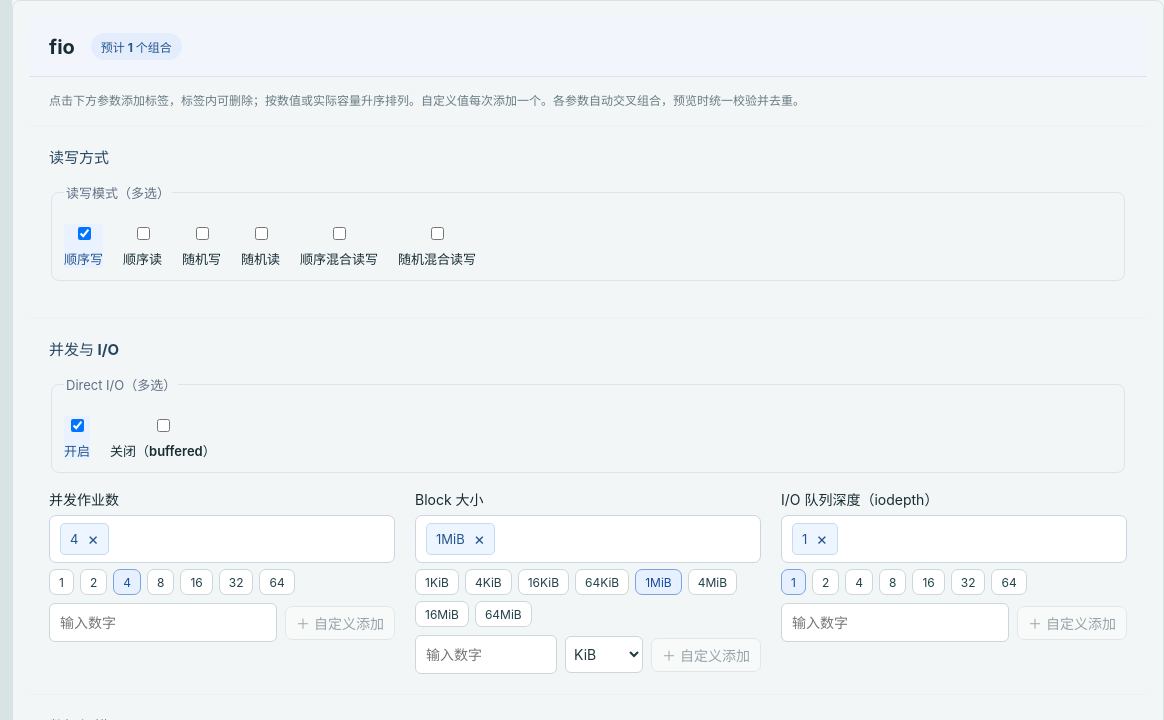
it: fio mixed ratio defaults to 50 and custom input controls submitted percentage
Expected: the text "读 50% / 写 50%" is not shown
Click the checkbox labelled "顺序混合读写": [340, 234] box 333,227 -> 346,240
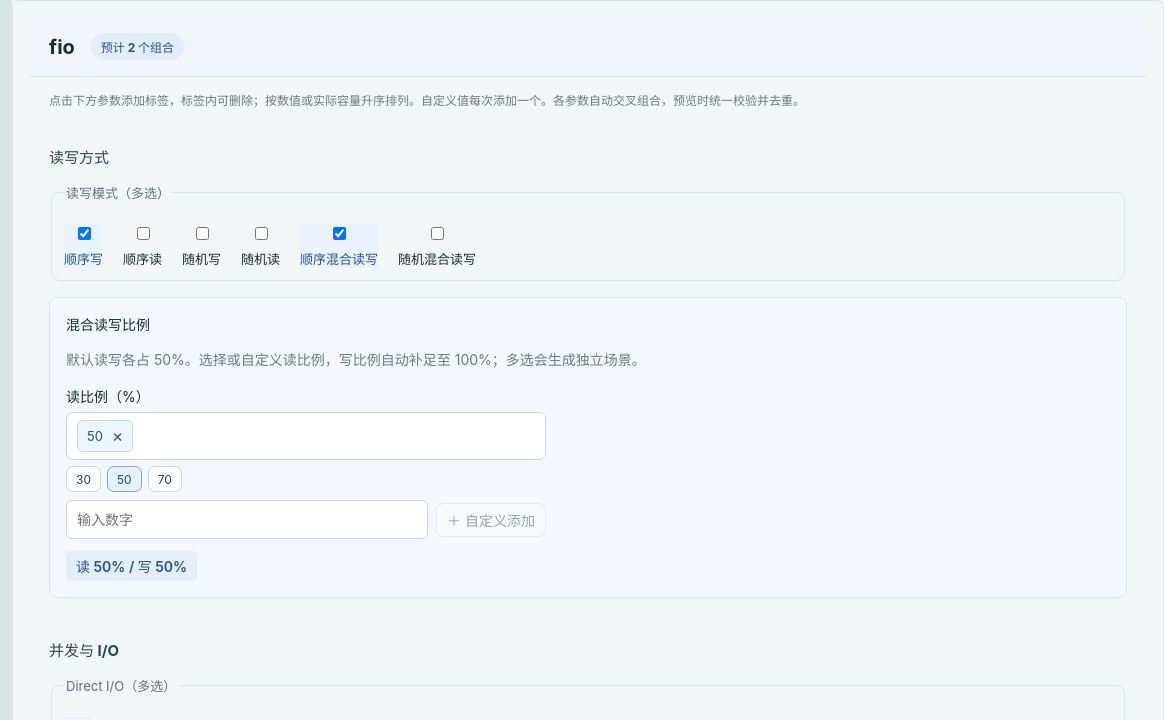
Result: the text "读 50% / 写 50%" is shown at 66,551 -> 197,581
Note: Add first to keep a valid ratio while removing the default.
In the field named "读比例（%）自定义值": [247, 520] box 66,500 -> 428,539, type "80"
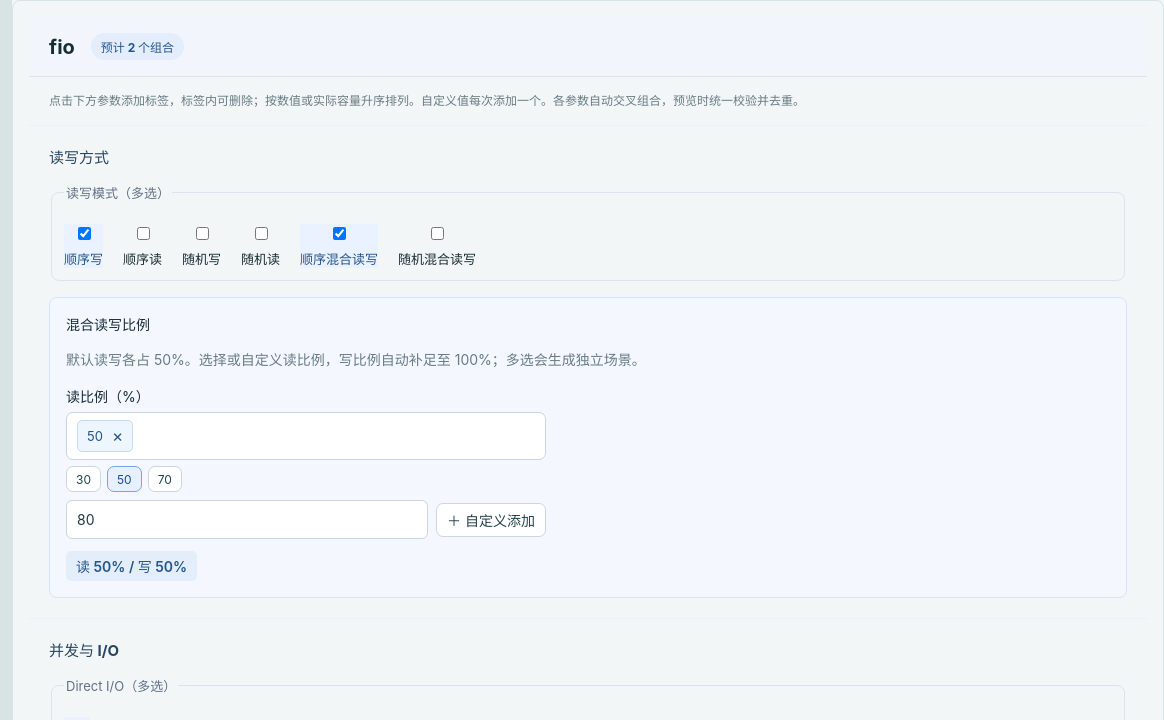
Click the button with aria-label "添加 读比例（%）自定义值": [491, 520] box 436,503 -> 546,537
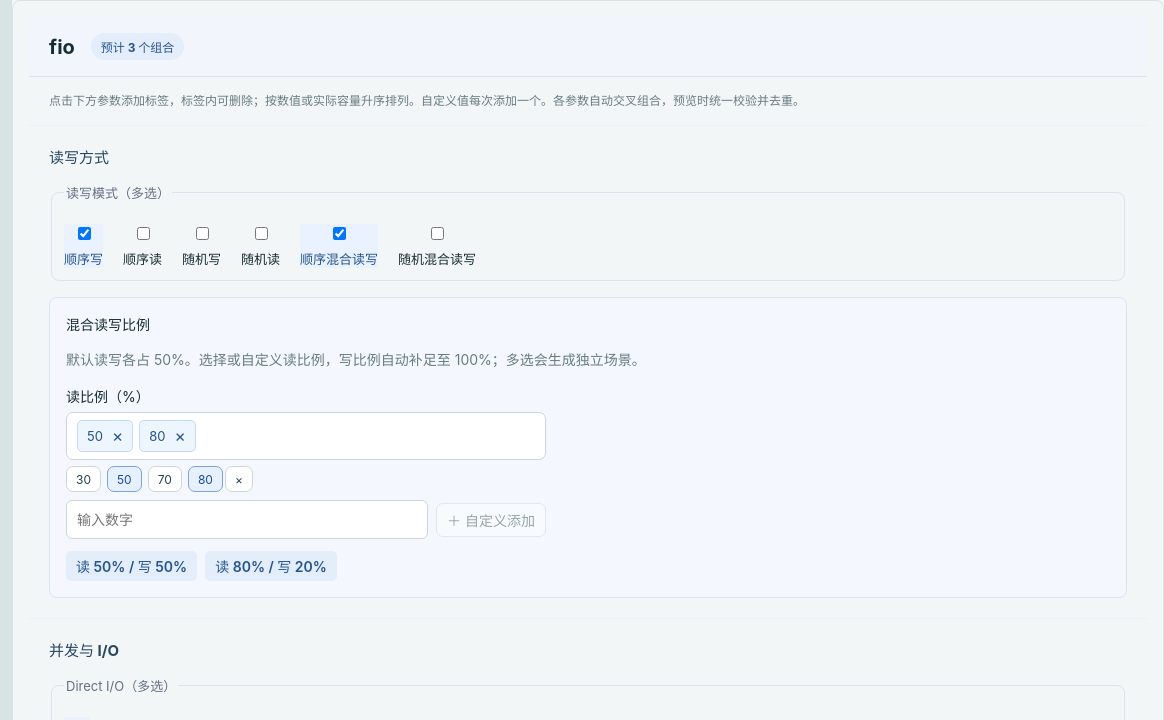
Click the button named "删除 读比例（%） 50": [118, 436] box 108,424 -> 127,448
(page scrolled)
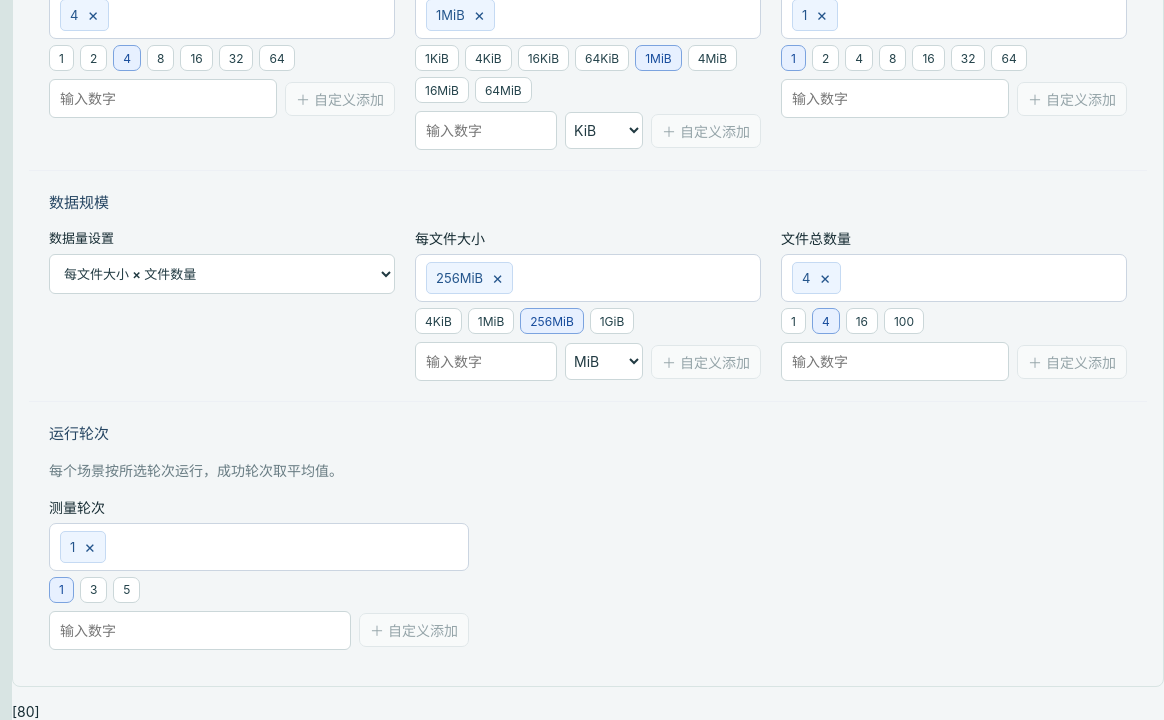
Result: the text with test id "ratio" reads "[80]" at 12,703 -> 40,719
